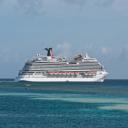cruises: (15, 45, 110, 84)
